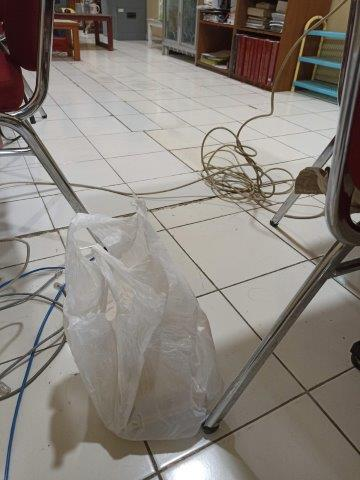plastik: (62, 212, 221, 437)
